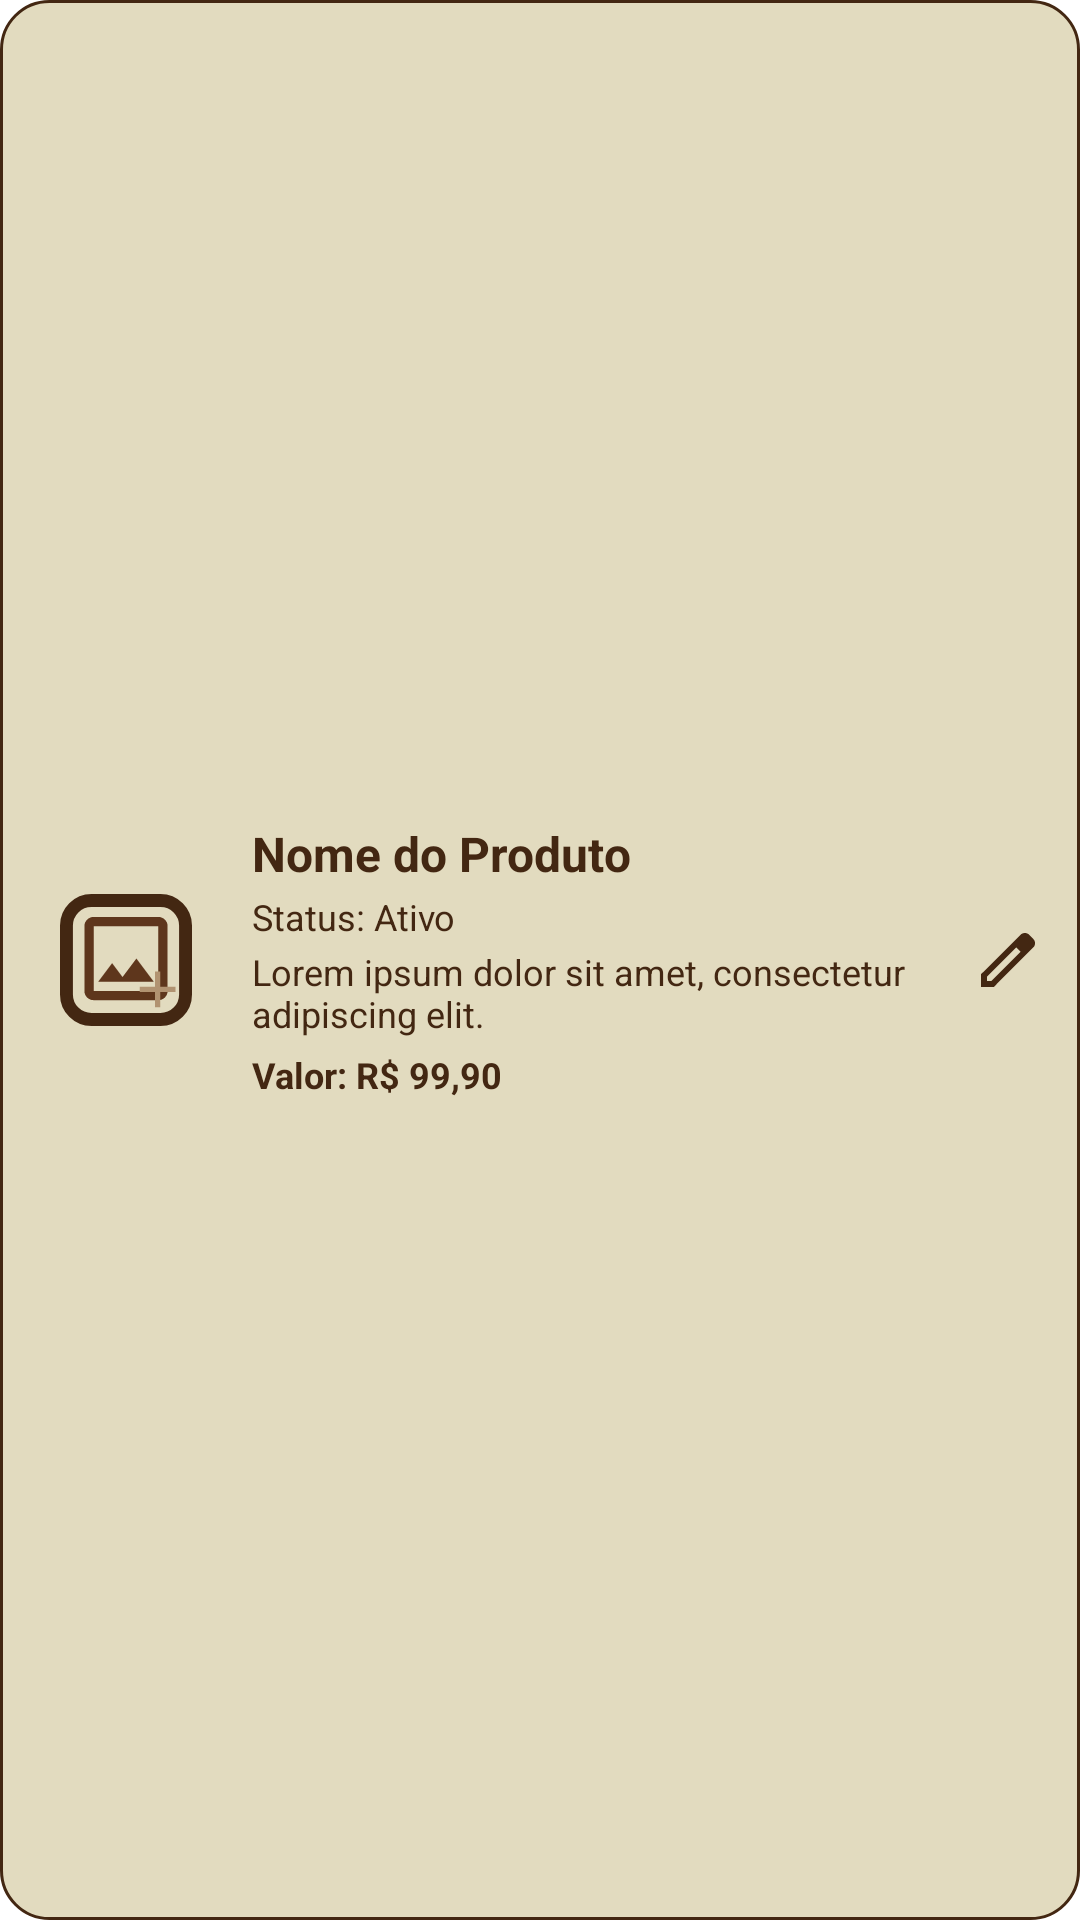

Screen size 1080w x 1920h. Icon name, then its box in pixels as (x1, y1, x2, y2):
Editar: (981, 933, 1035, 987)
